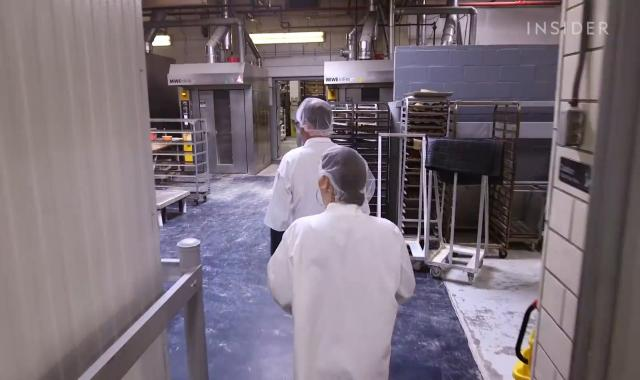hairnet: (318, 149, 374, 208), (295, 96, 335, 138)
